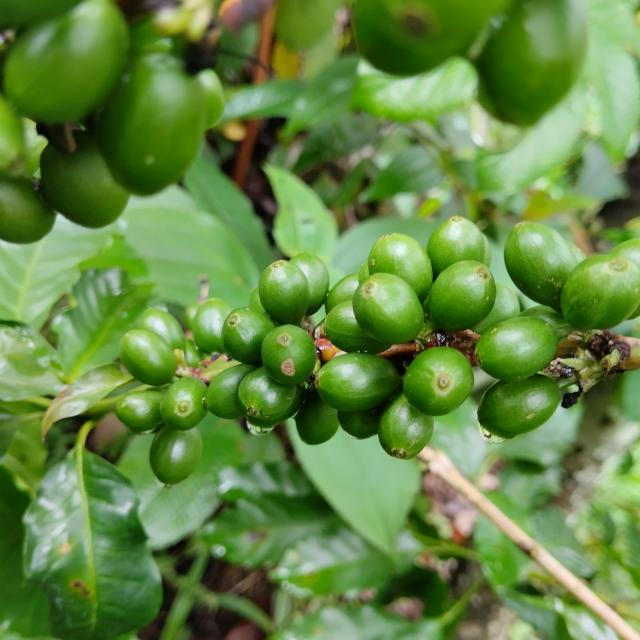green: (505, 221, 579, 308), (562, 254, 640, 330), (476, 317, 559, 381), (352, 273, 425, 344), (315, 353, 402, 412), (428, 260, 497, 332), (404, 347, 475, 416), (368, 233, 433, 303), (427, 216, 492, 279), (379, 391, 434, 460), (325, 300, 391, 354), (261, 324, 316, 386), (259, 260, 310, 325), (119, 329, 177, 386), (149, 426, 202, 487), (221, 308, 276, 365), (205, 364, 255, 420), (289, 252, 330, 316), (159, 378, 207, 431), (115, 391, 163, 434), (138, 308, 185, 350), (325, 273, 359, 313), (611, 238, 640, 265), (359, 260, 370, 283)
